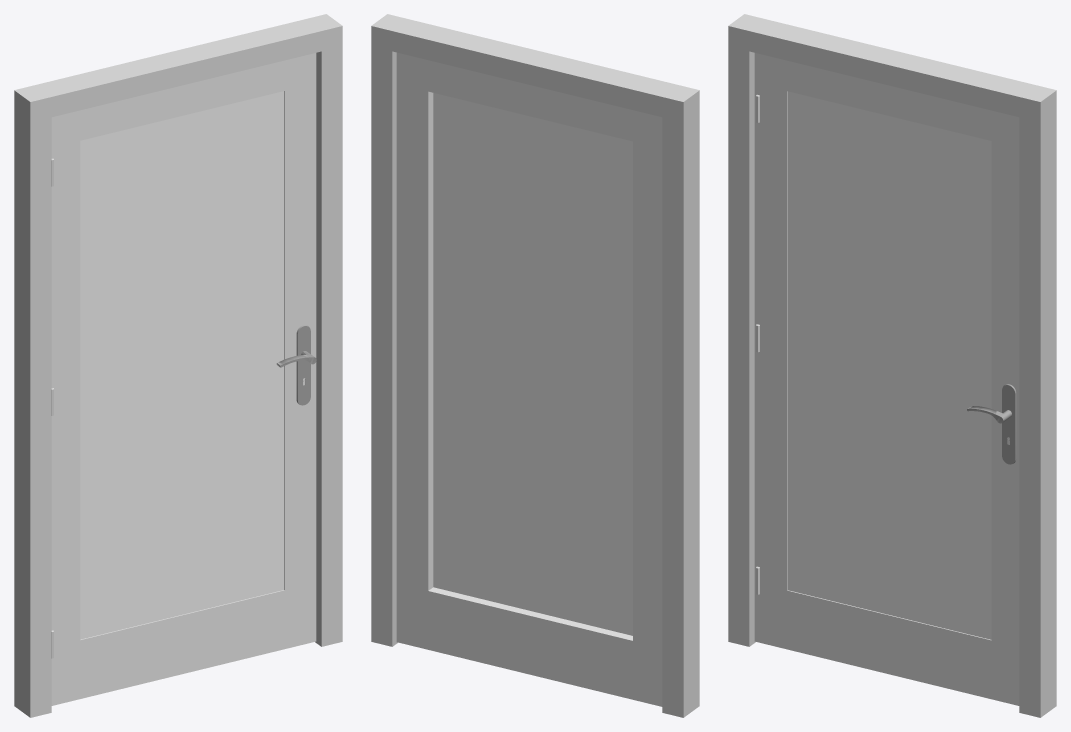
The model's file is GlassDoorSingle001.glb.
The picture shows the model from 3 angles, left to right: view 1: azimuth 30°, elevation 25°; view 2: azimuth 150°, elevation 25°; view 3: azimuth 330°, elevation 25°; orthographic projection.
Visible parts, largest first — view 1: SingleGlassPanelDoor[glass], SingleGlassPanelDoor1[door], SingleGlassPanelDoor[doorframe], SingleGlassPanelDoor[handle]; view 2: SingleGlassPanelDoor[glass], SingleGlassPanelDoor1[door], SingleGlassPanelDoor[doorframe]; view 3: SingleGlassPanelDoor[glass], SingleGlassPanelDoor1[door], SingleGlassPanelDoor[doorframe], SingleGlassPanelDoor[handle].
Boxes of the visible parts, x1,y1,x2,y2 form: SingleGlassPanelDoor[glass]: (80, 91, 284, 639); SingleGlassPanelDoor1[door]: (51, 53, 316, 705); SingleGlassPanelDoor[doorframe]: (14, 14, 342, 717); SingleGlassPanelDoor[handle]: (276, 325, 316, 405); SingleGlassPanelDoor[glass]: (433, 93, 632, 635); SingleGlassPanelDoor1[door]: (396, 52, 662, 706); SingleGlassPanelDoor[doorframe]: (371, 14, 699, 717); SingleGlassPanelDoor[glass]: (787, 91, 991, 639); SingleGlassPanelDoor1[door]: (754, 53, 1019, 705); SingleGlassPanelDoor[doorframe]: (728, 14, 1056, 717); SingleGlassPanelDoor[handle]: (967, 384, 1016, 464).
Size of the model in its own units: 1.18 by 2.22 by 0.1427.
5 materials, 3 textured.
